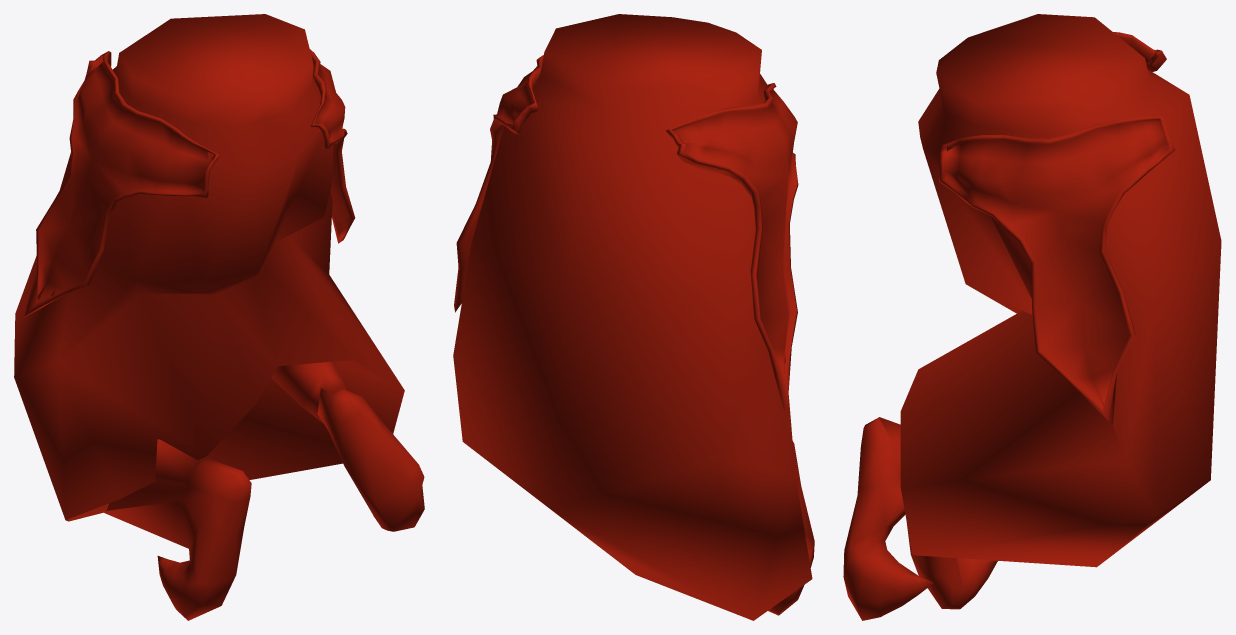
File: bot_000046.obj
3 renders of one model, left to right at view 1: azimuth 30°, elevation 25°; view 2: azimuth 150°, elevation 25°; view 3: azimuth 270°, elevation 25°, orthographic. The views are drawn at different scales.
Visible parts, largest first — view 1: LowPoly_Warlock.004_Plane.004; view 2: LowPoly_Warlock.004_Plane.004; view 3: LowPoly_Warlock.004_Plane.004.
Boxes of the visible parts, left/top/right/bottom form: LowPoly_Warlock.004_Plane.004: left=14, top=14, right=424, bottom=620; LowPoly_Warlock.004_Plane.004: left=453, top=14, right=814, bottom=620; LowPoly_Warlock.004_Plane.004: left=843, top=14, right=1221, bottom=620.
Bounding box in the file's own units: 0.6568 × 1.03 × 0.602.
